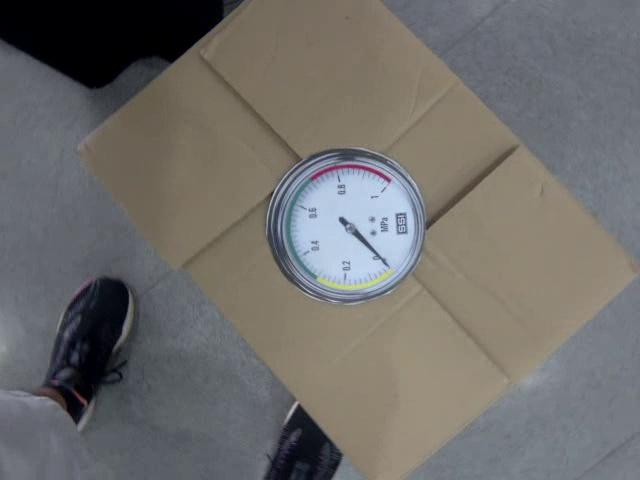Dashboard: (269, 149, 424, 306)
ssi: (393, 212, 412, 238)
